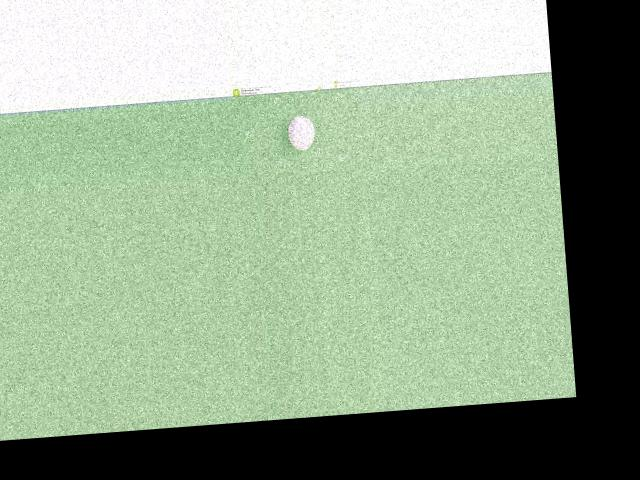egg: (287, 115, 315, 150)
